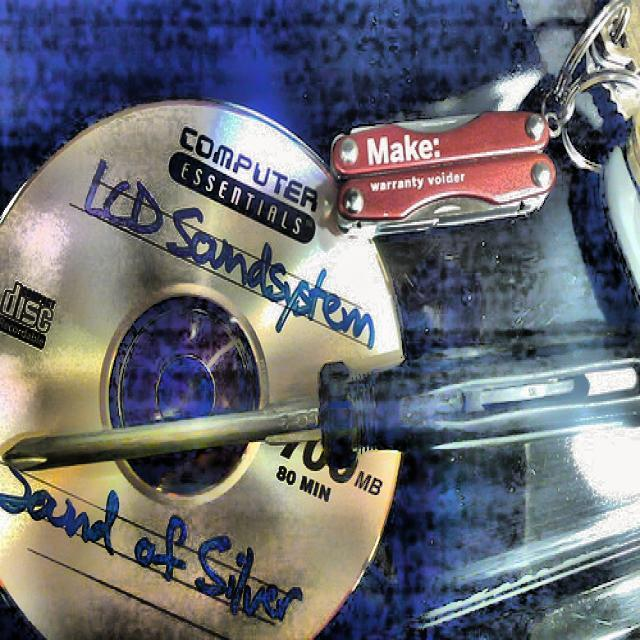screwdriver: (4, 327, 640, 469)
